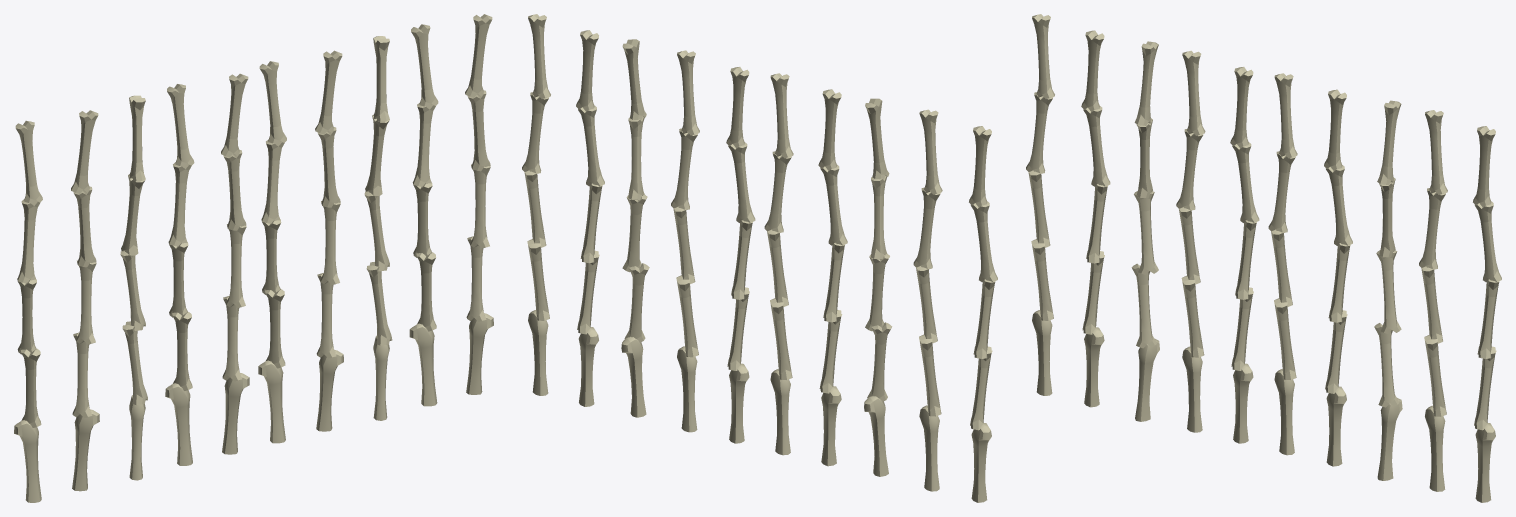
Rendered from Verticales_L.fbx.
3 renders of one model, left to right at view 1: azimuth 30°, elevation 25°; view 2: azimuth 150°, elevation 25°; view 3: azimuth 330°, elevation 25°, orthographic.
Parts seen in each view (by area): view 1: Verticales_L; view 2: Verticales_L; view 3: Verticales_L.
Boxes of the visible parts, <box> form: Verticales_L: <box>14,14,493,502</box>; Verticales_L: <box>522,14,997,502</box>; Verticales_L: <box>1026,14,1501,502</box>.
Size of the model in its own units: 376 by 285 by 21.17.
